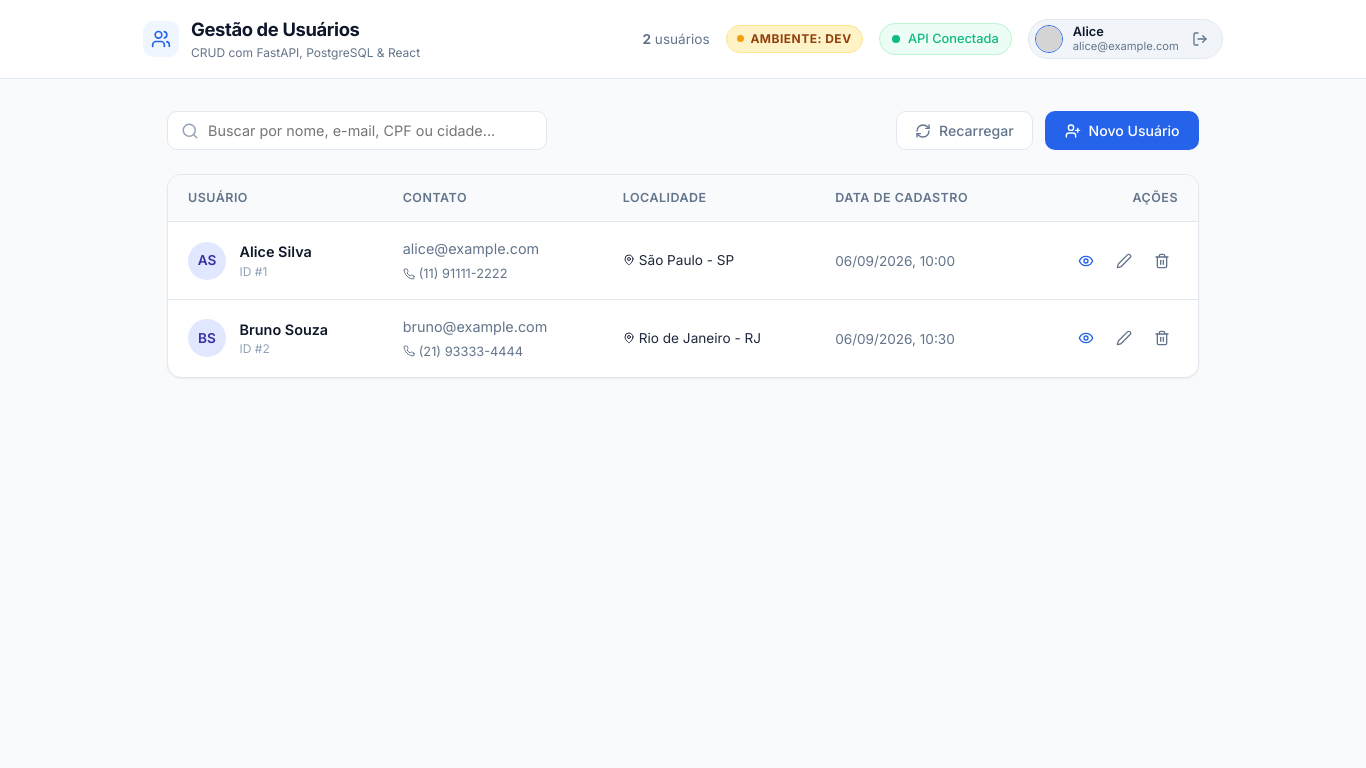
Test: App Integration Tests (CRUD Flow & Auth Guard) › fluxo de edição: altera o sobrenome do usuário e atualiza a interface
The width and height of the screenshot is (1366, 768).
Expected: the text "Alice Silva" is shown, [240,241,312,262]
Click the button named "editar" in the row of "Alice Silva": (1124, 261) [1108,244,1140,277]
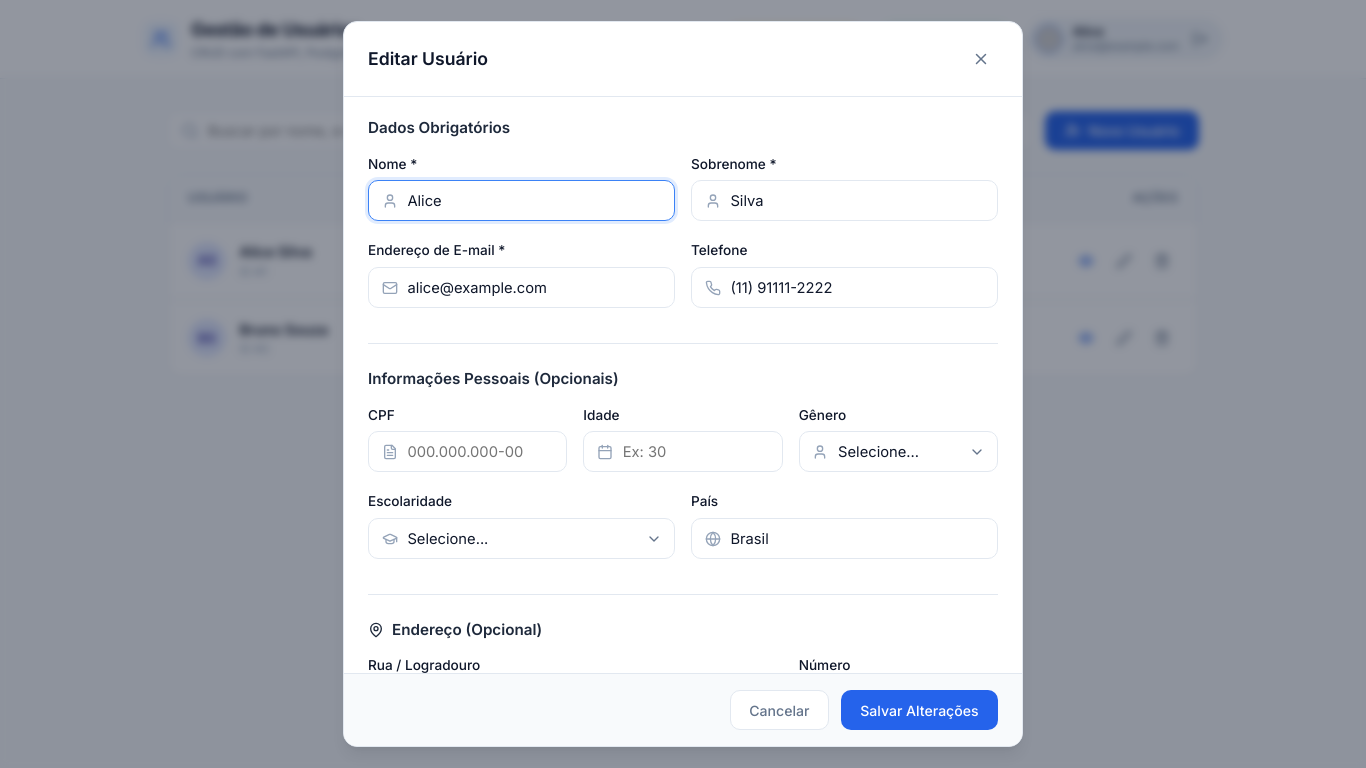
Expected: the heading "Editar Usuário" is shown, [368,46,488,72]
Replace the text in the field labelled "Sobrenome *" with "Silva Editada": (844, 201) [691,180,998,221]
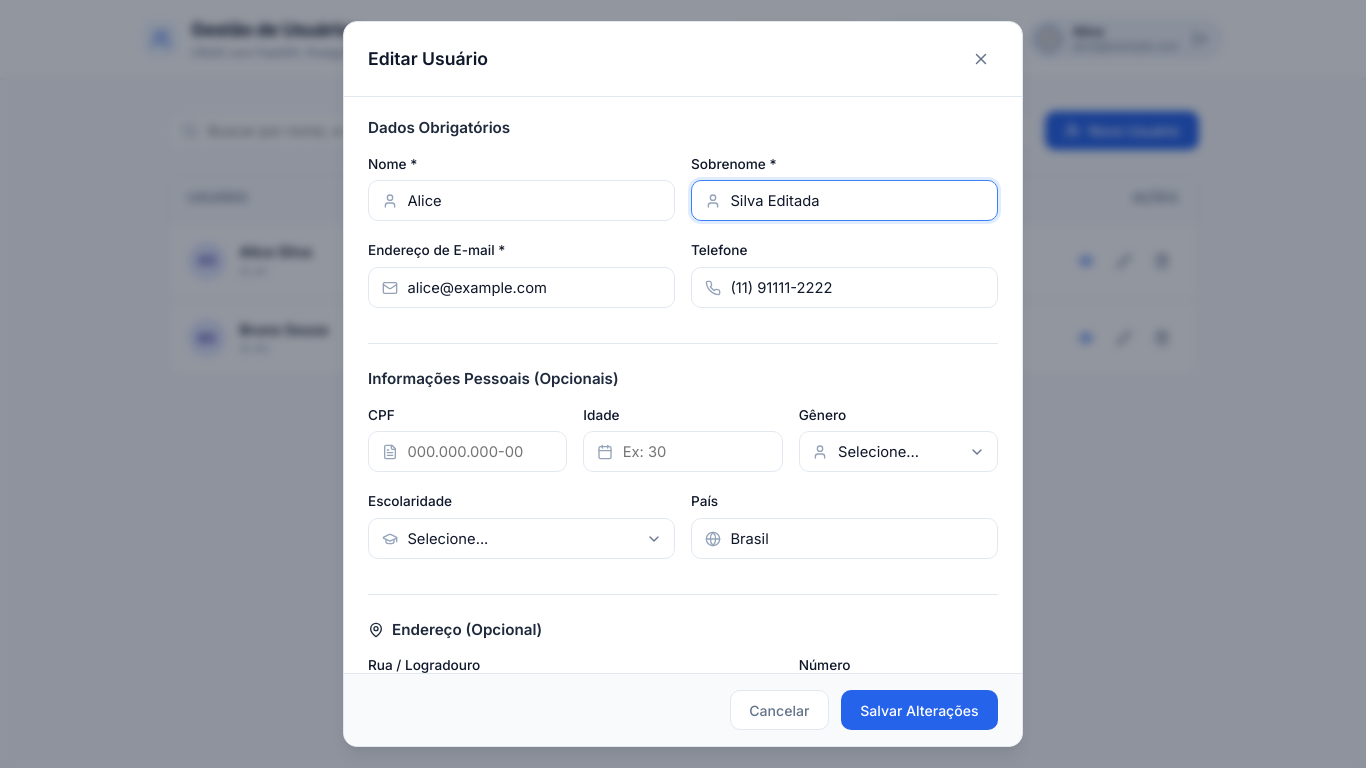
Click the button "Salvar Alterações": (919, 710) [841,690,998,730]
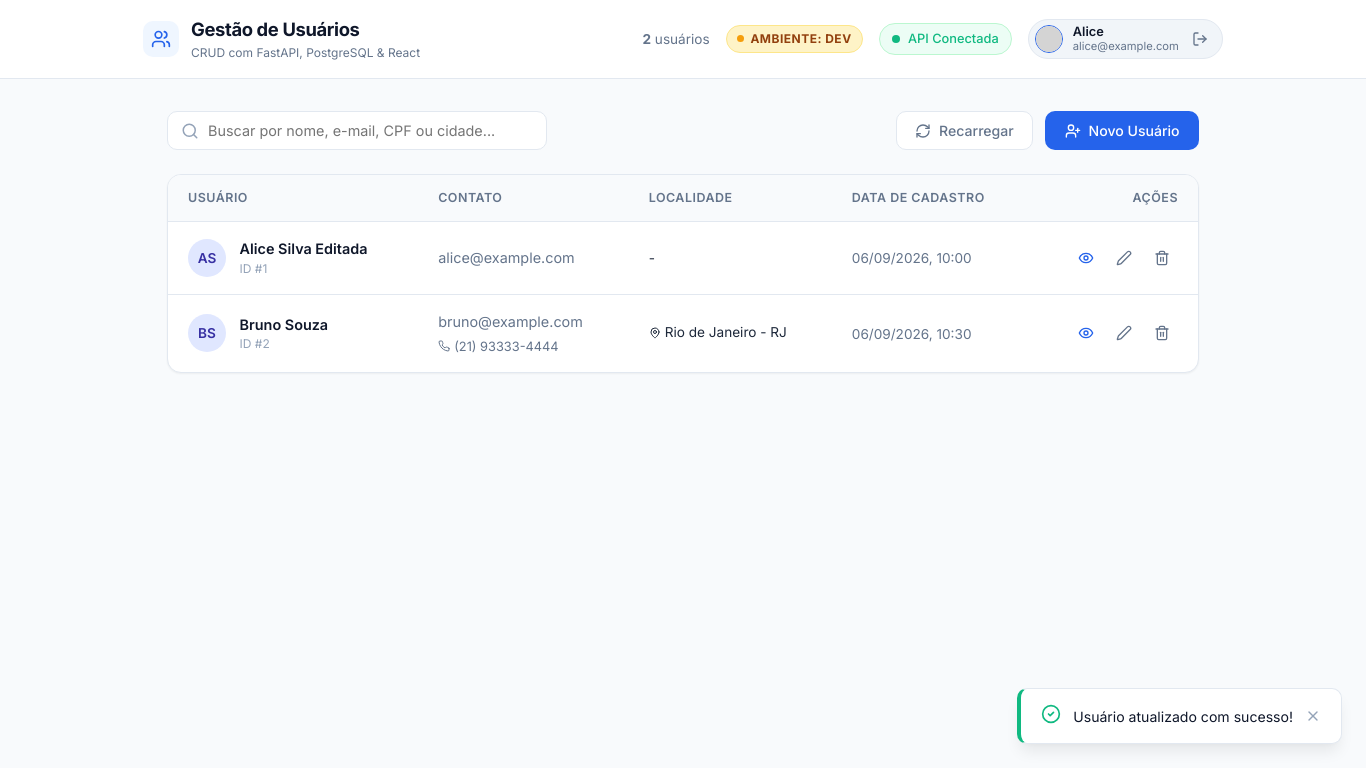
Expected: the text "Alice Silva Editada" is shown, [240,238,368,260]
Expected: the text "Usuário atualizado com sucesso!" is shown, [1073,706,1293,727]
